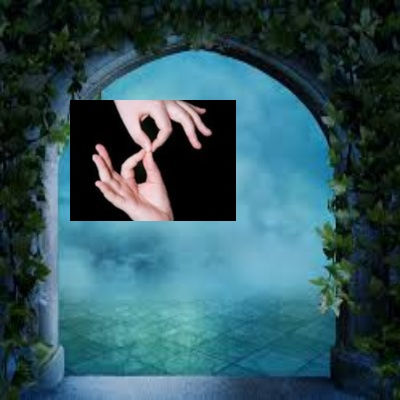hand: (70, 100, 236, 221)
